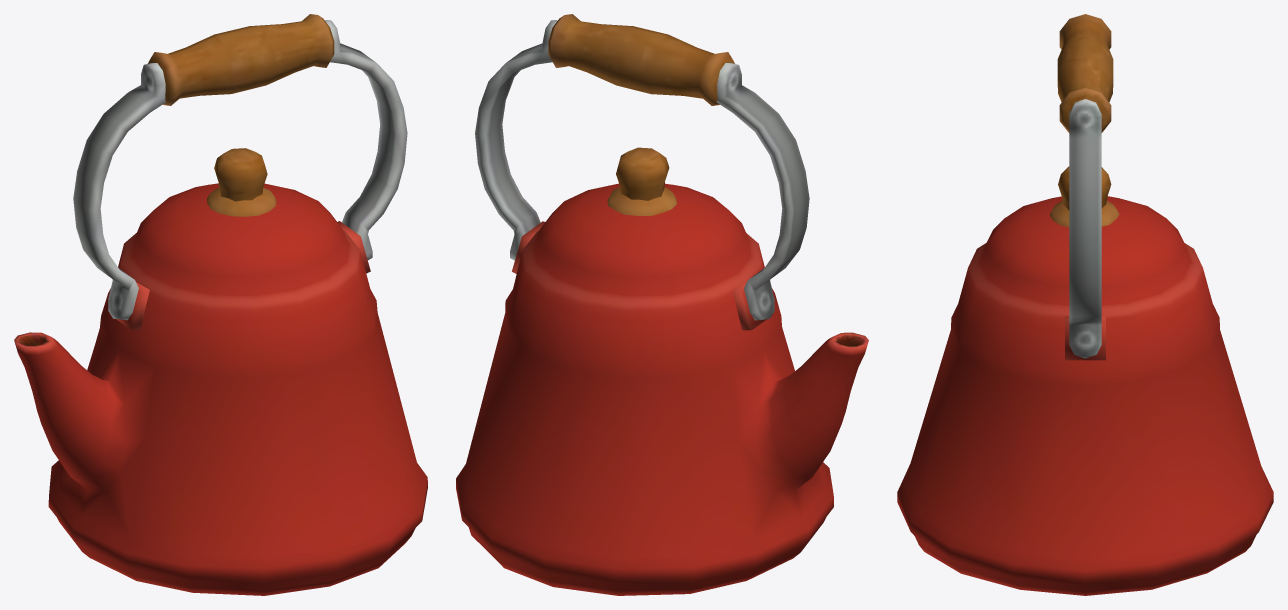
3 views of the same model, side by side, from view 1: azimuth 30°, elevation 25°; view 2: azimuth 150°, elevation 25°; view 3: azimuth 270°, elevation 25° (orthographic). The views are drawn at different scales.
Size of the model in its own units: 5.64 by 6.78 by 4.84.
1 material, 1 textured.
